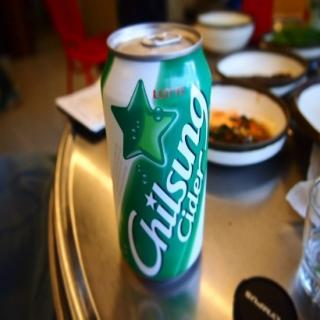chilsung: (99, 20, 214, 291)
